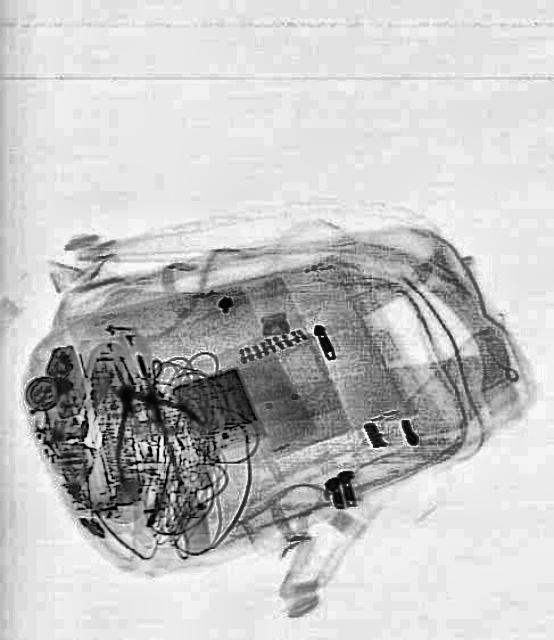Pliers: (70, 337, 206, 479)
